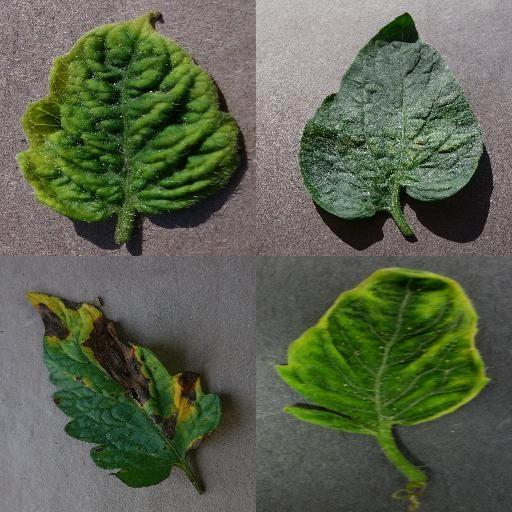Early Blight: (28, 291, 226, 487)
Spider Mites: (298, 11, 484, 219)
Yellow Leaf Curl Virus: (15, 10, 242, 222), (277, 264, 493, 436)
